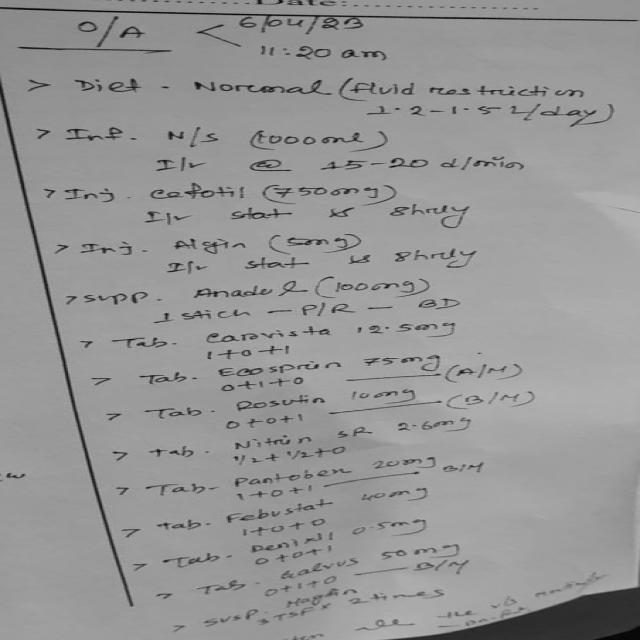medicine: (187, 324, 355, 346), (262, 553, 376, 584), (176, 281, 316, 305), (204, 466, 358, 487), (211, 360, 354, 380), (218, 500, 346, 522), (234, 534, 356, 554), (138, 183, 252, 204), (164, 233, 261, 256), (214, 395, 336, 412), (221, 432, 326, 450)
